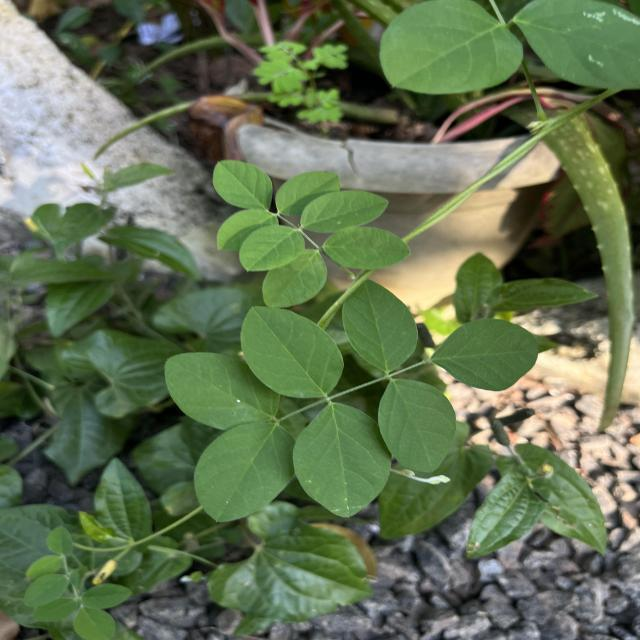Clitoria ternatea: (292, 402, 394, 518), (192, 421, 298, 524), (239, 304, 345, 400), (163, 351, 282, 432), (428, 318, 540, 392), (377, 376, 457, 474), (340, 279, 420, 373)
